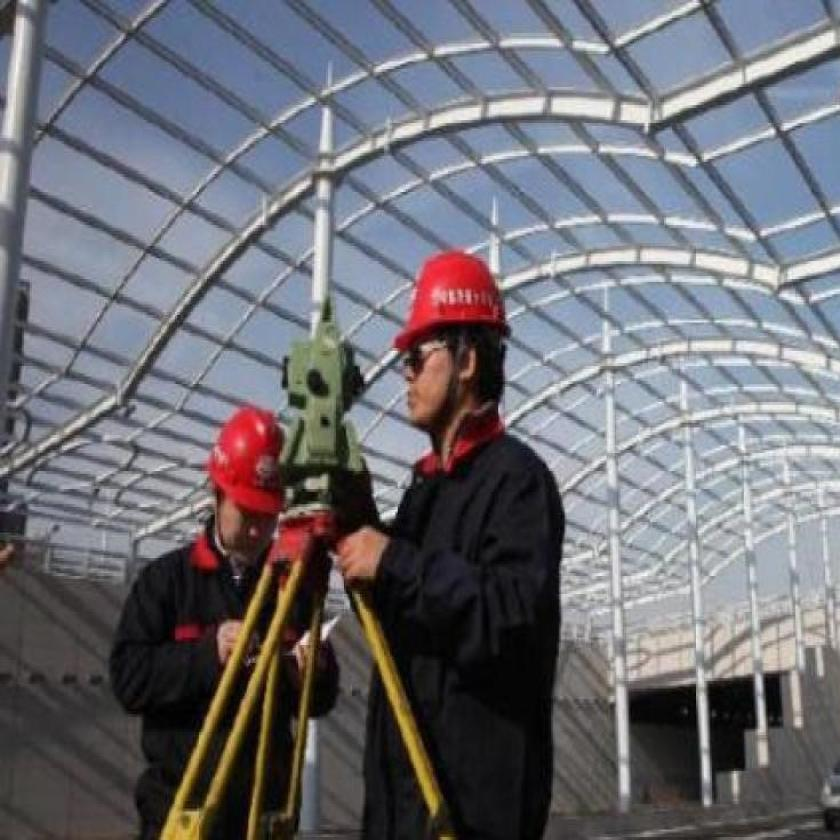Con_casco: (392, 250, 514, 441), (202, 400, 291, 568)
